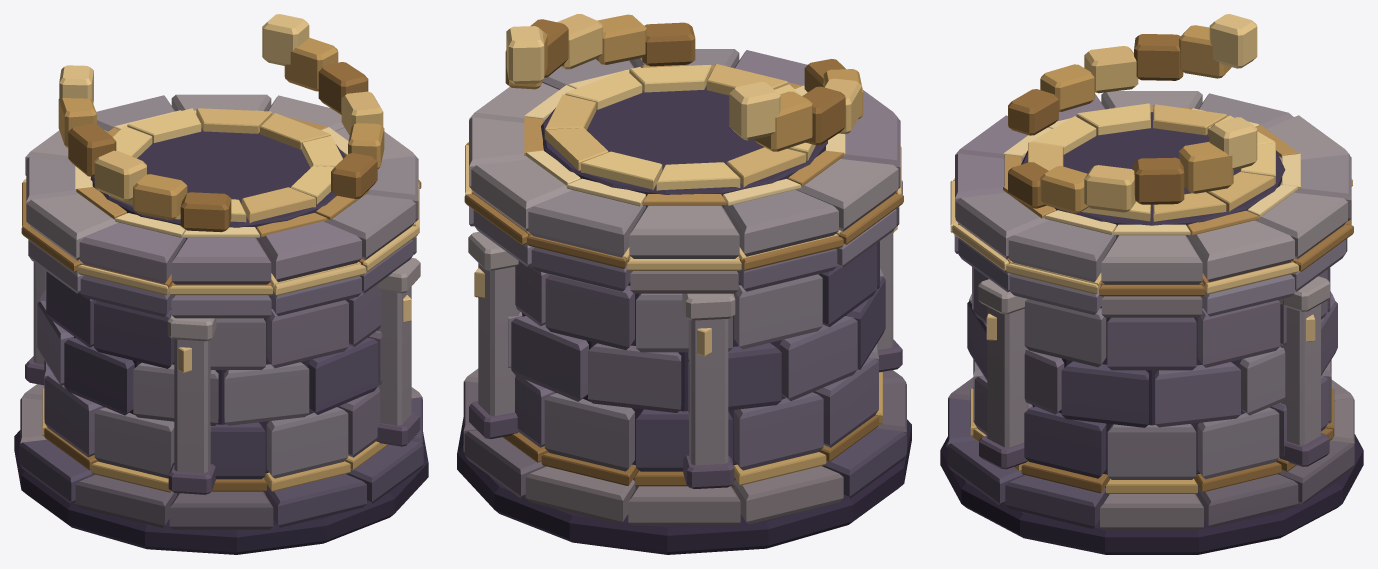
Rendered from citadel-imperial-37.glb.
3 renders of one model, left to right at view 1: azimuth 30°, elevation 25°; view 2: azimuth 150°, elevation 25°; view 3: azimuth 270°, elevation 25°, orthographic. The views are drawn at different scales.
Visible parts, largest first — view 1: citadel-imperial-37; view 2: citadel-imperial-37; view 3: citadel-imperial-37.
Boxes of the visible parts, x1,y1,x2,y2 form: citadel-imperial-37: [14, 14, 428, 554]; citadel-imperial-37: [457, 14, 911, 554]; citadel-imperial-37: [940, 14, 1363, 554].
Bounding box in the file's own units: 67.47 × 71.6 × 69.2.
